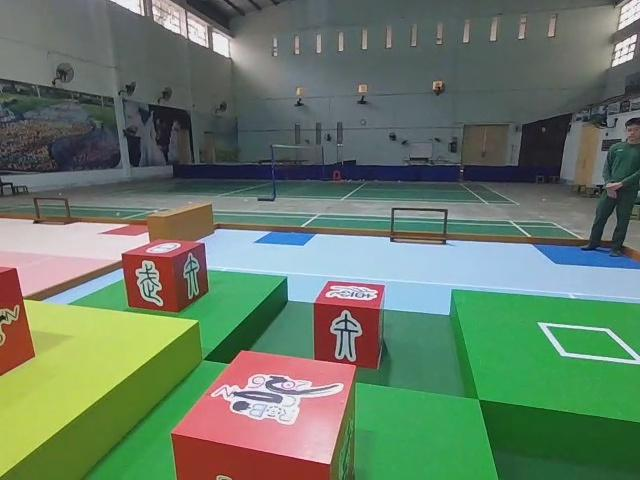R1: (169, 345, 358, 480)
R2 Fake: (311, 277, 387, 371), (120, 237, 211, 313)
